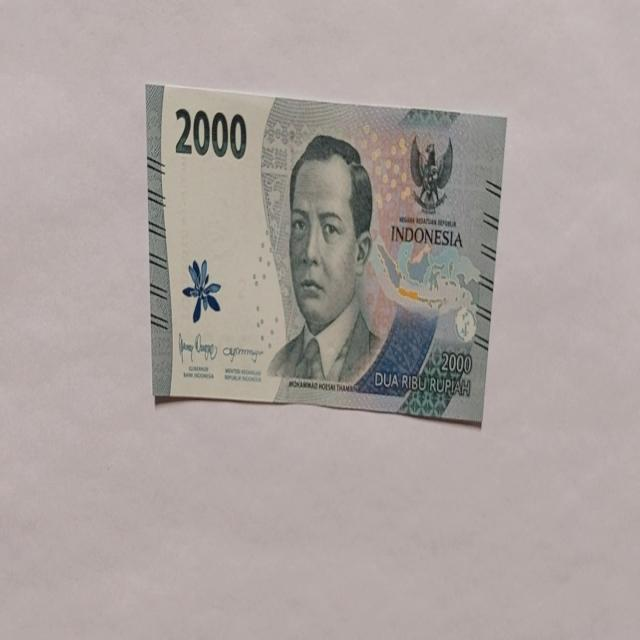dua ribu rupiah: (145, 82, 507, 424), (266, 132, 382, 385)
